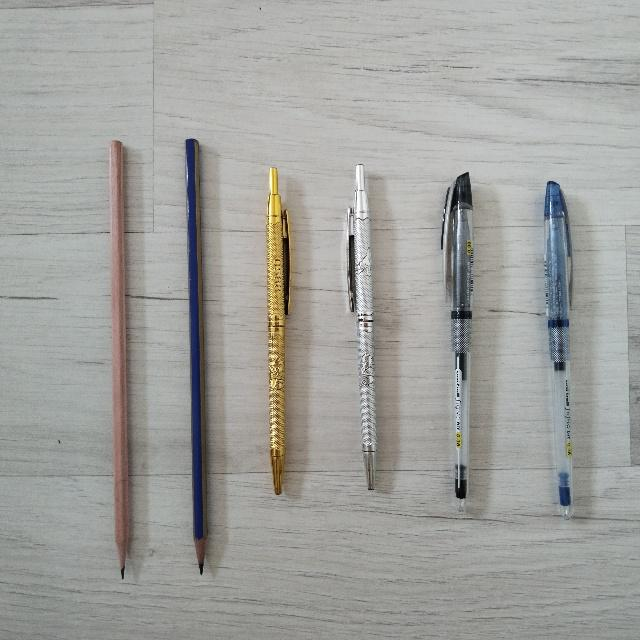pen: (441, 173, 472, 510), (544, 181, 572, 518)
pencil: (185, 139, 206, 573), (109, 141, 128, 577)
signature pen: (347, 164, 376, 489), (267, 167, 289, 494)
